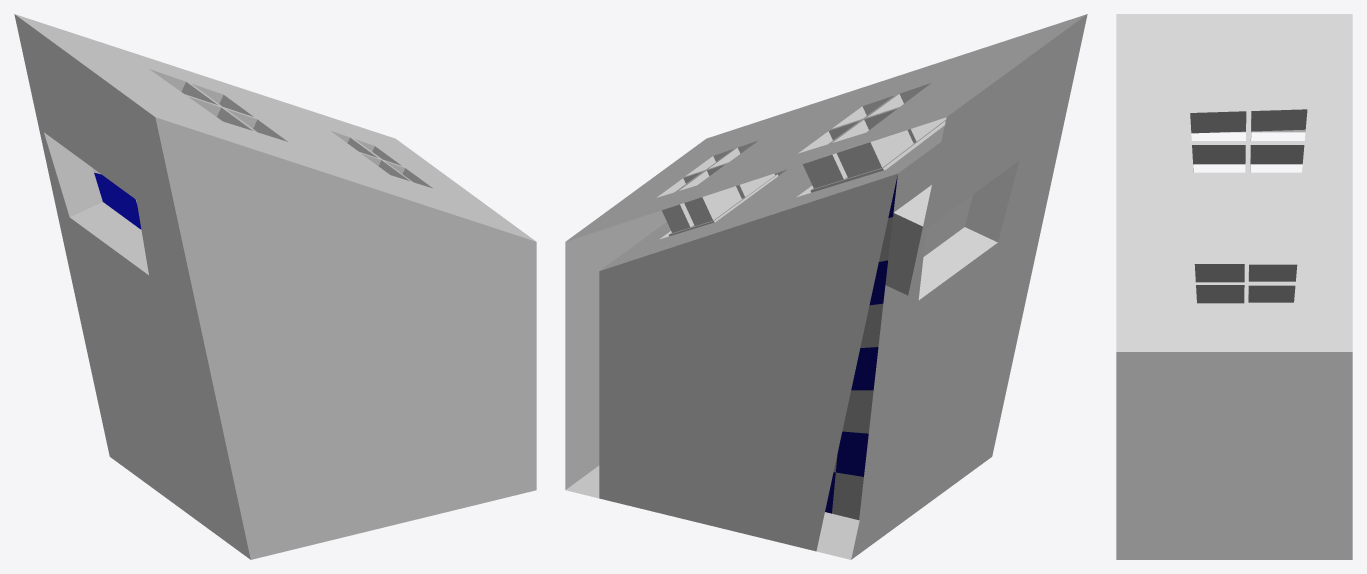
File: ames_room_v0.fbx
3 renders of one model, left to right at view 1: azimuth 30°, elevation 25°; view 2: azimuth 150°, elevation 25°; view 3: azimuth 270°, elevation 25°, orthographic. The views are drawn at different scales.
Visible parts, largest first — view 1: Model; view 2: Model; view 3: Model.
Part boxes in pixels (left/top/right/bottom): Model: left=14, top=14, right=536, bottom=559; Model: left=565, top=14, right=1087, bottom=559; Model: left=1116, top=14, right=1352, bottom=559.
Size of the model in its own units: 1123 by 1312 by 720.
